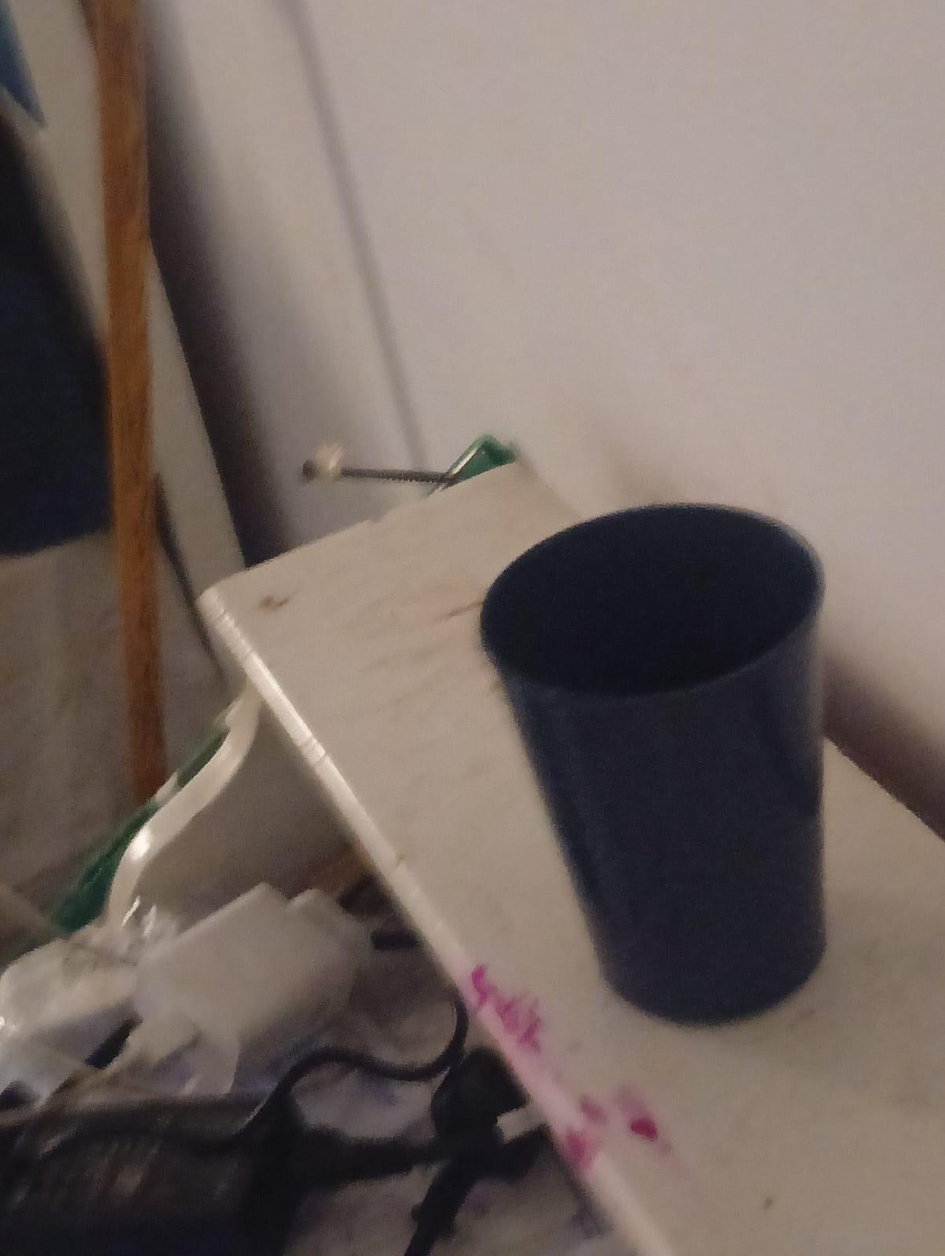cup: (480, 505, 825, 1023), (480, 499, 834, 746)
